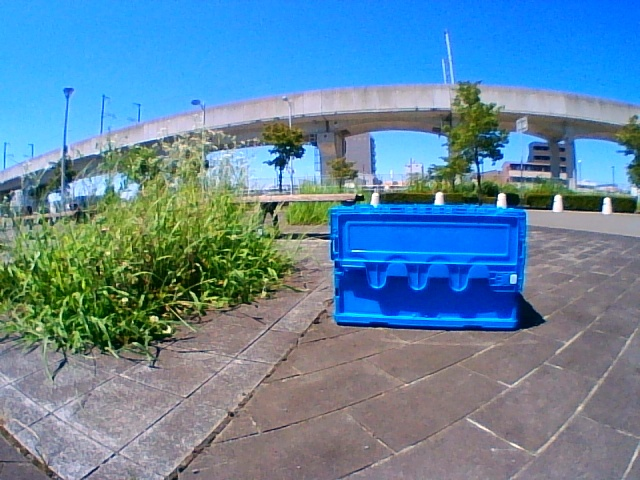blue_box: (334, 207, 517, 323)
